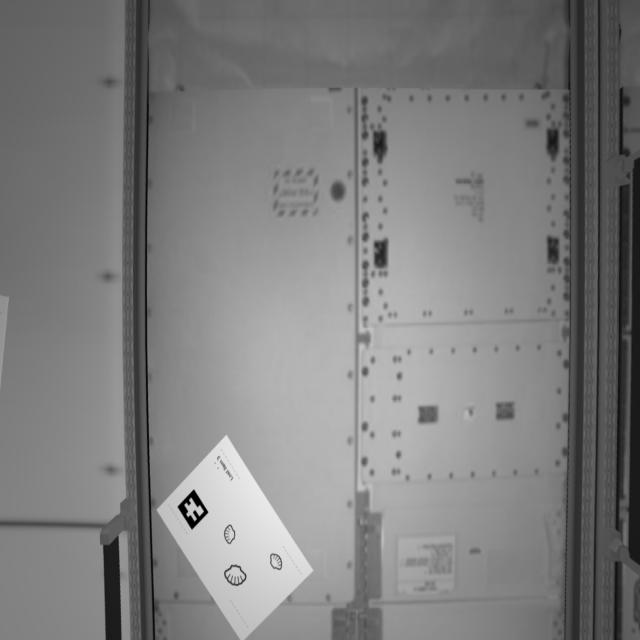shell: (224, 564, 252, 589), (223, 524, 241, 547), (269, 552, 286, 572)
